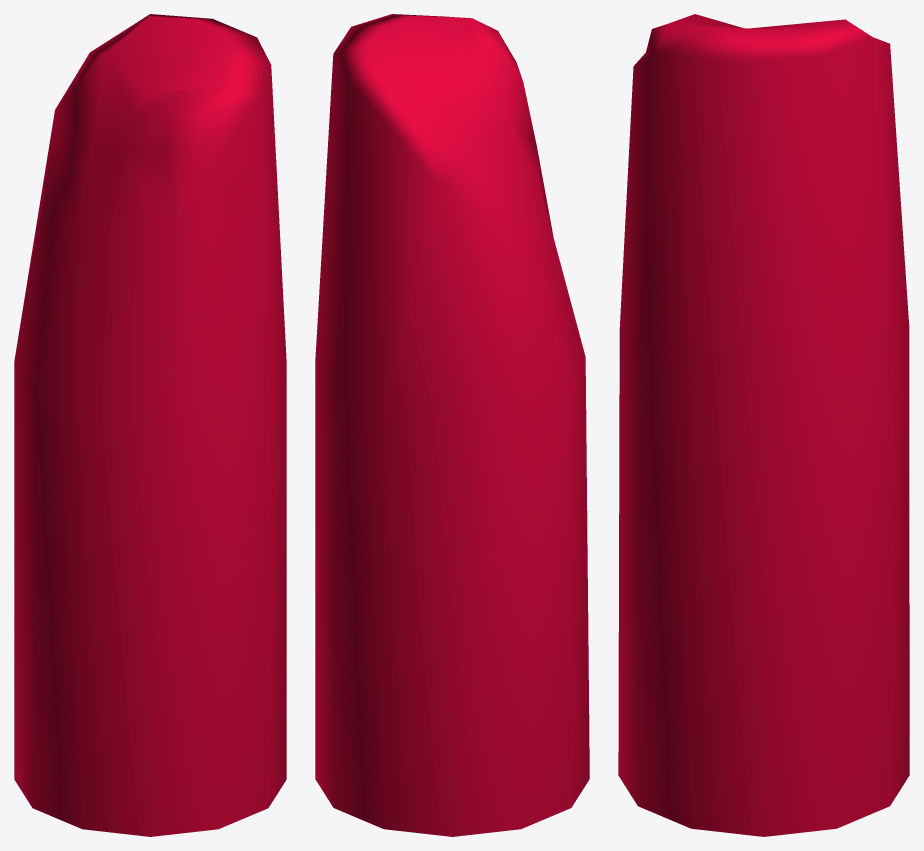
Rendered from Pillar_Nomalized_01_Half_Break.fbx.
3 views of the same model, side by side, from view 1: azimuth 30°, elevation 25°; view 2: azimuth 150°, elevation 25°; view 3: azimuth 270°, elevation 25° (orthographic). The views are drawn at different scales.
Visible parts, largest first — view 1: Pillar_Nomalized_01_Half_Break; view 2: Pillar_Nomalized_01_Half_Break; view 3: Pillar_Nomalized_01_Half_Break.
Part boxes in pixels (bbox=[...]): Pillar_Nomalized_01_Half_Break: bbox=[14, 14, 286, 836]; Pillar_Nomalized_01_Half_Break: bbox=[315, 14, 589, 836]; Pillar_Nomalized_01_Half_Break: bbox=[618, 14, 909, 836].
Bounding box in the file's own units: 23.57 × 69.69 × 23.57.
